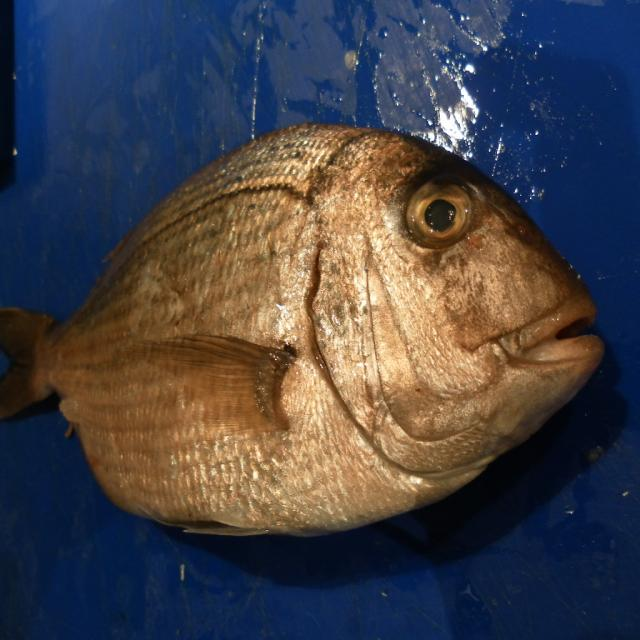Red-Sea-Bream-mercan-: (0, 123, 607, 540)
